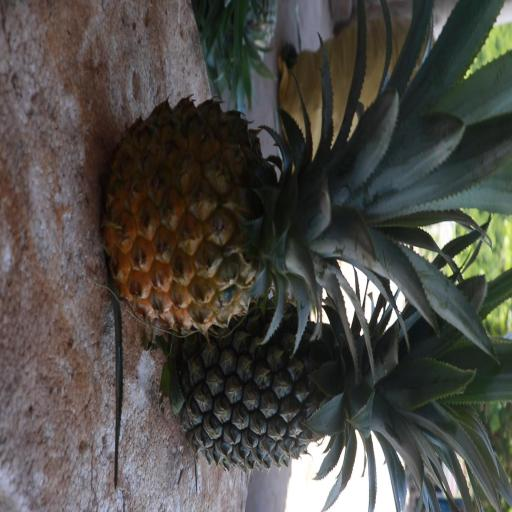Pineapple - v8 v1: (108, 107, 440, 325)
